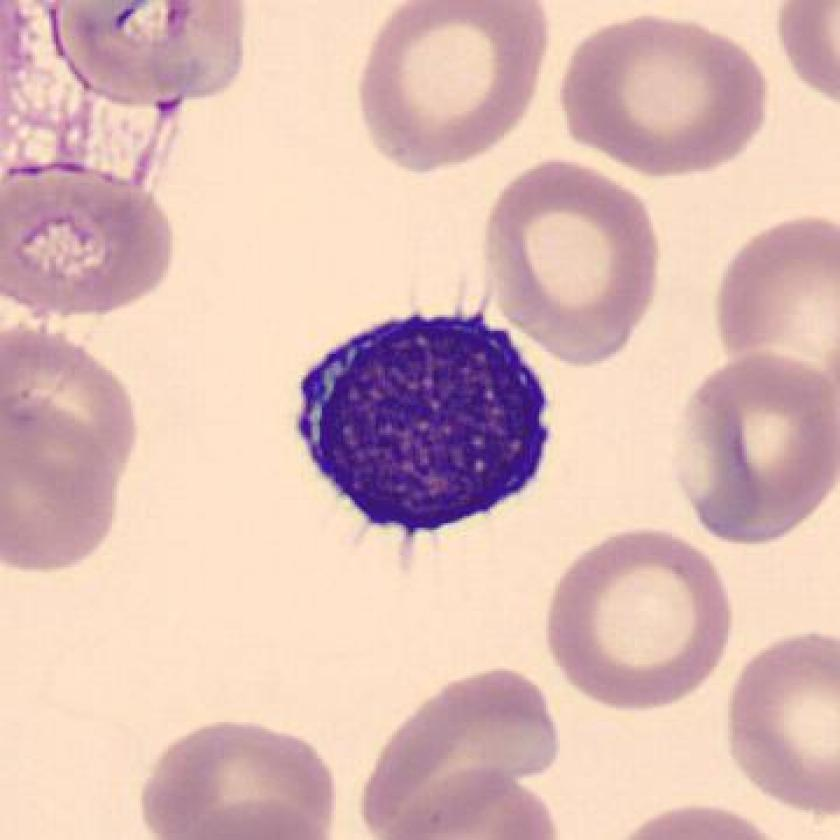lymphocyte: (276, 295, 566, 547)
